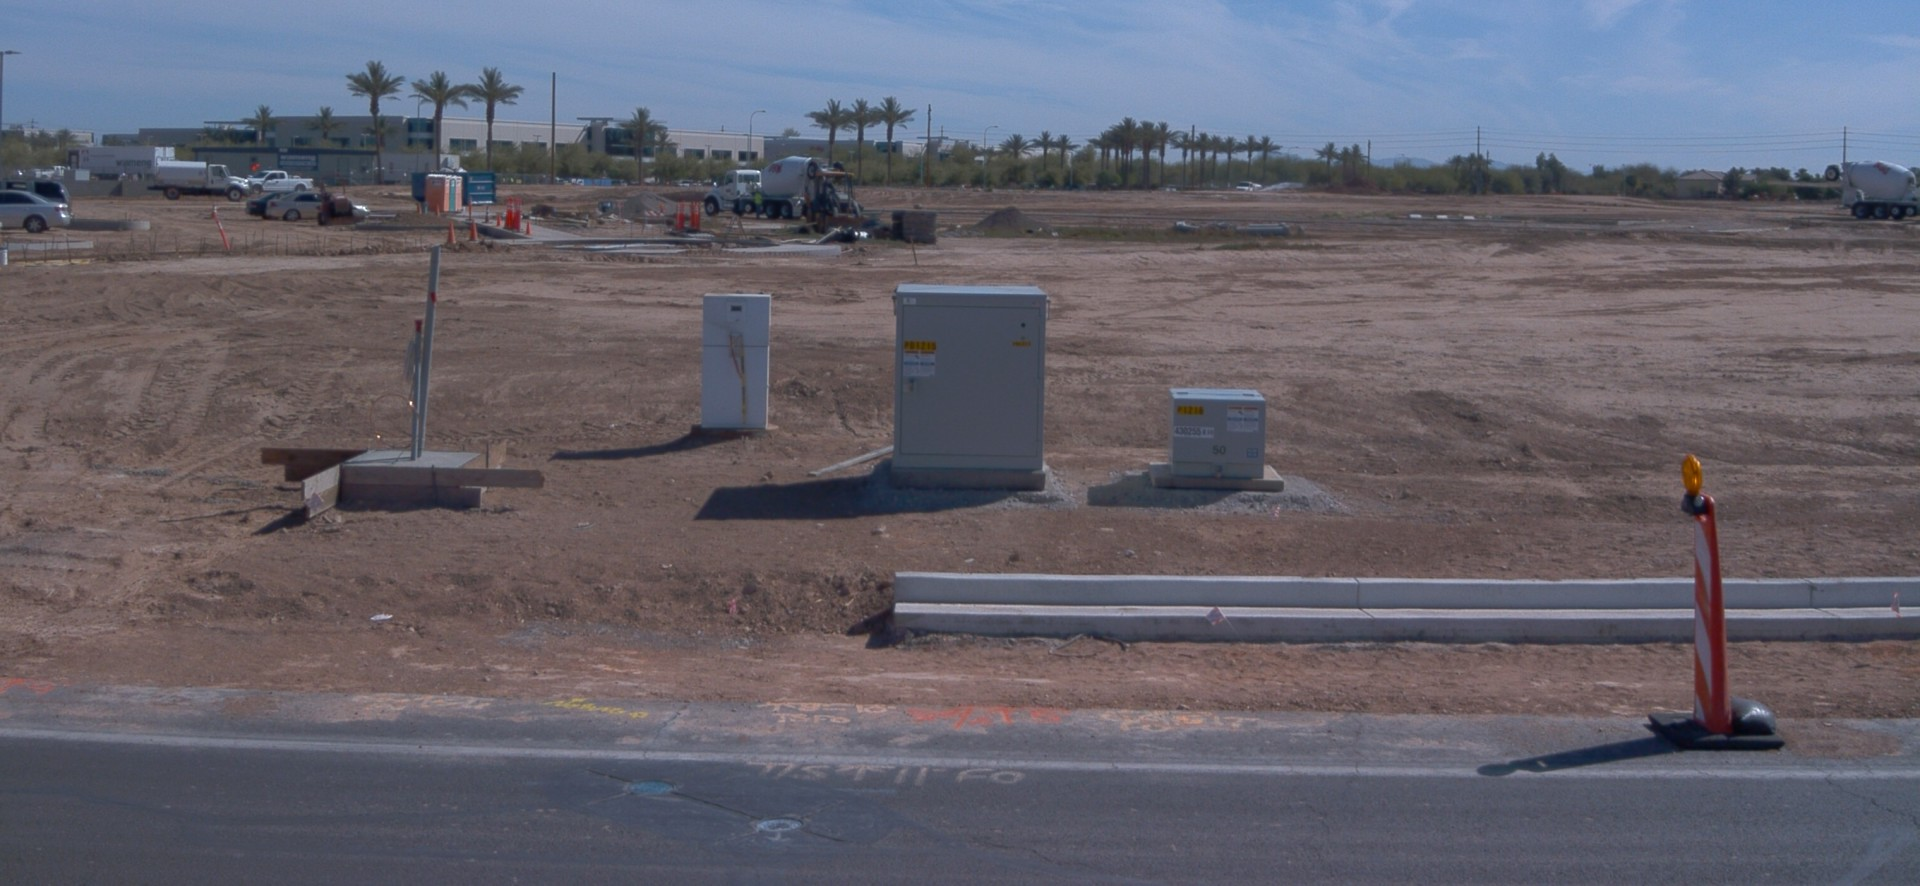TYPE_PEDESTRIAN: (752, 186, 765, 218)
TYPE_VEHICLE: (704, 155, 858, 220), (1822, 156, 1919, 223), (801, 164, 880, 236), (146, 157, 250, 201), (74, 138, 177, 178), (264, 189, 373, 223), (0, 189, 72, 235), (2, 177, 78, 218), (315, 168, 362, 226), (9, 144, 76, 183), (247, 167, 315, 199), (241, 193, 279, 217), (1234, 181, 1262, 195), (0, 219, 2, 232)
